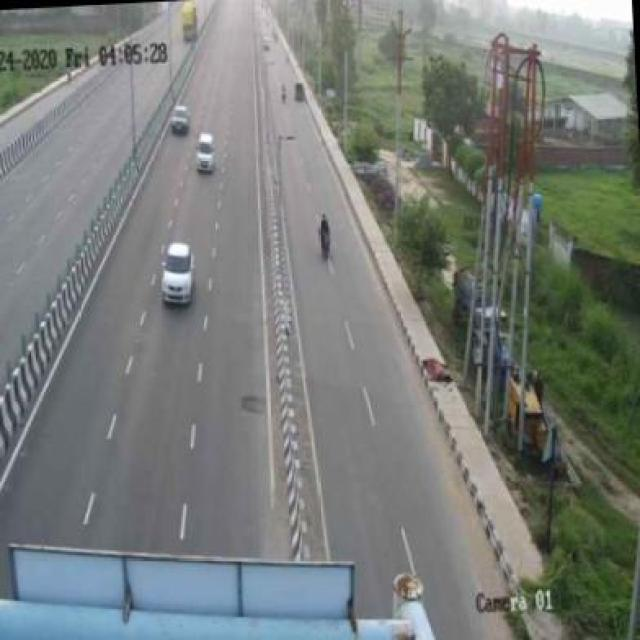car: (160, 238, 202, 306), (190, 126, 220, 174), (165, 98, 189, 139)
